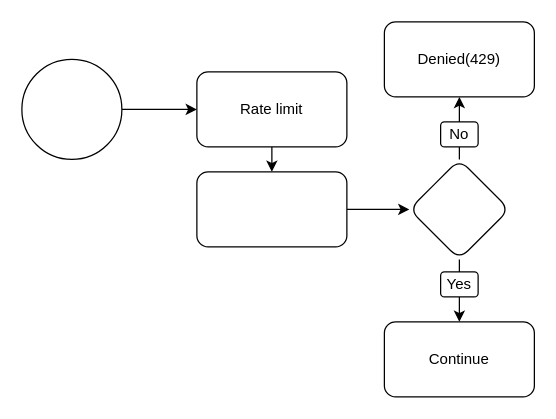
Some shapes in this 556 by 419 pixel diagram are drawn without their labels. Here are the shapes that lost their labels. From the top down, the centre of each, then its label:
At point (71, 108): "Request".
At point (271, 209): "Evaluate policy".
At point (458, 208): "Allowed".
